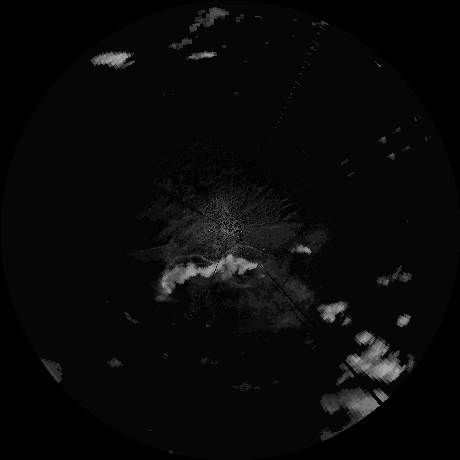frontgust: (164, 254, 213, 272), (219, 244, 258, 259)
